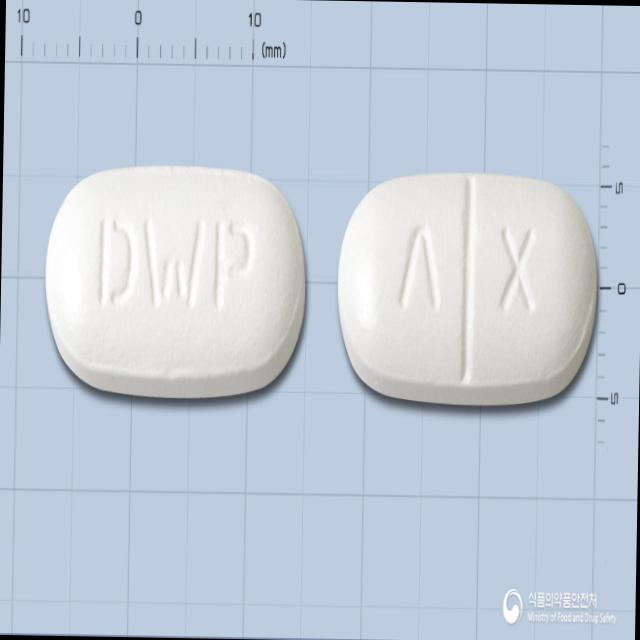Amoxicle-7-1-: (40, 156, 311, 410), (334, 168, 600, 412)
